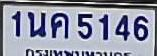1: (98, 13, 108, 41), (11, 10, 21, 37)
4: (114, 14, 130, 41)
5: (77, 13, 93, 39)
6: (133, 15, 148, 41)
A04: (50, 12, 69, 39)
A25: (27, 10, 48, 38)
